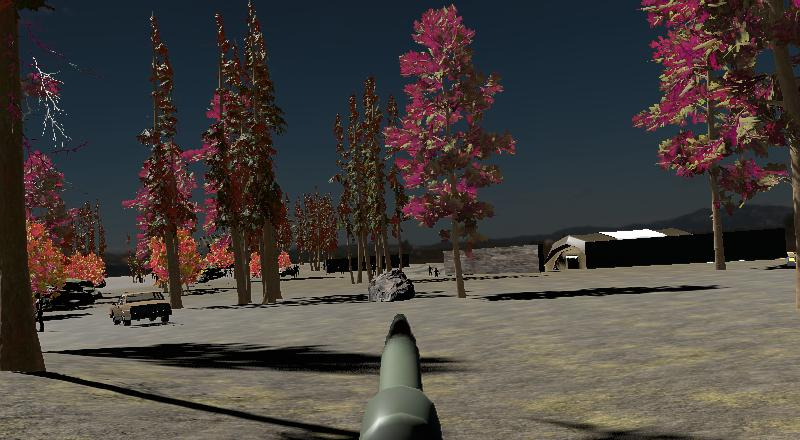car: (109, 289, 173, 328)
